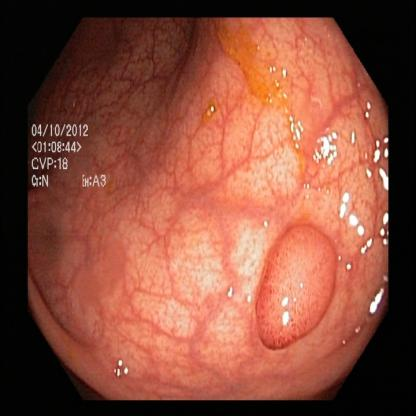Labels: (27, 111, 114, 196)
Polyps: (238, 211, 348, 355)
